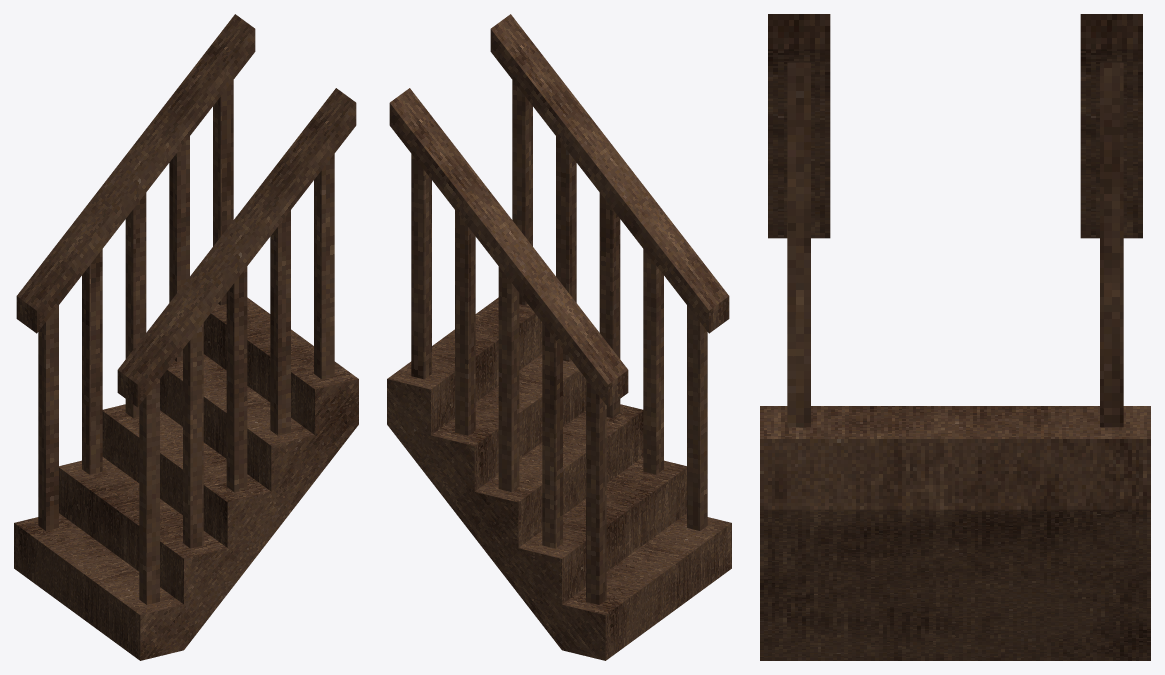
The model's file is stair_small_01.glb.
The picture shows the model from 3 angles, left to right: view 1: azimuth 30°, elevation 25°; view 2: azimuth 150°, elevation 25°; view 3: azimuth 270°, elevation 25°; orthographic projection. The views are drawn at different scales.
Parts seen in each view (by area): view 1: stair_small_012, railing_stair_01_R, railing_stair_01_L; view 2: stair_small_012, railing_stair_01_L, railing_stair_01_R; view 3: stair_small_012, railing_stair_01_L, railing_stair_01_R.
Boxes of the visible parts, box(x1,y1,x2,y2) form: stair_small_012: box(14, 297, 358, 660); railing_stair_01_R: box(117, 88, 356, 604); railing_stair_01_L: box(16, 14, 255, 530); stair_small_012: box(387, 297, 731, 660); railing_stair_01_L: box(389, 88, 628, 604); railing_stair_01_R: box(490, 14, 729, 530); stair_small_012: box(760, 406, 1150, 660); railing_stair_01_L: box(1080, 14, 1142, 427); railing_stair_01_R: box(768, 14, 830, 427).
Size of the model in its own units: 1 by 2.2 by 1.
Materials: 3 (3 with a texture image).
